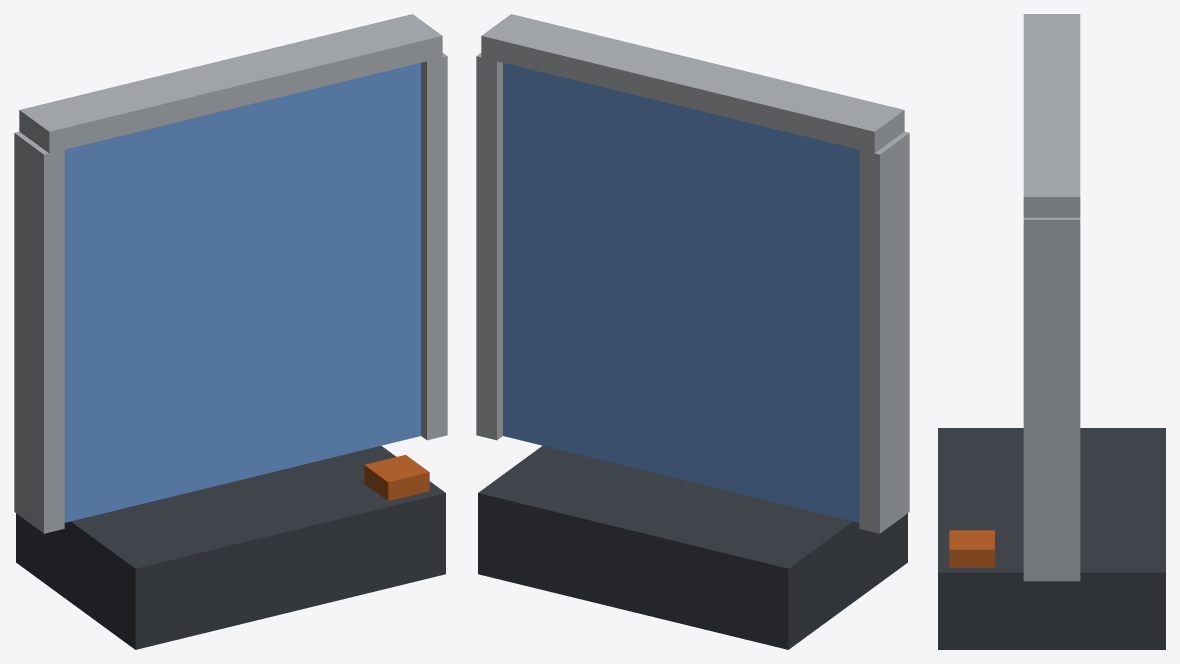
File: barrier-physical.lod.glb
3 renders of one model, left to right at view 1: azimuth 30°, elevation 25°; view 2: azimuth 150°, elevation 25°; view 3: azimuth 270°, elevation 25°, orthographic. The views are drawn at different scales.
Visible parts, largest first — view 1: m; view 2: m; view 3: m.
Part boxes in pixels (box(x1,y1,x2,y2)): m: box(14, 14, 447, 649); m: box(476, 14, 909, 649); m: box(938, 14, 1165, 649).
Size of the model in its own units: 0.0852 by 0.1 by 0.0437.
